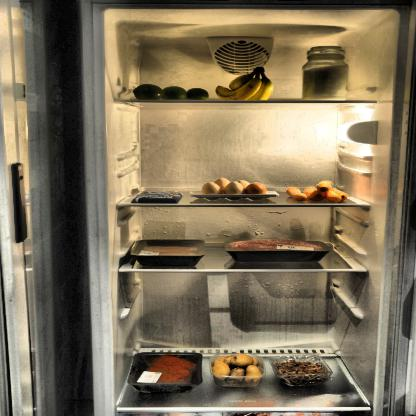banana: (211, 66, 275, 104)
beef: (136, 353, 198, 386)
carrot: (282, 182, 352, 203)
chicken: (138, 241, 200, 258)
chocolate: (131, 191, 185, 203)
eggs: (198, 177, 271, 197)
ground_beef: (224, 239, 337, 260)
lime: (134, 82, 211, 102)
potato: (212, 354, 262, 384)
shrimp: (272, 355, 333, 383)
